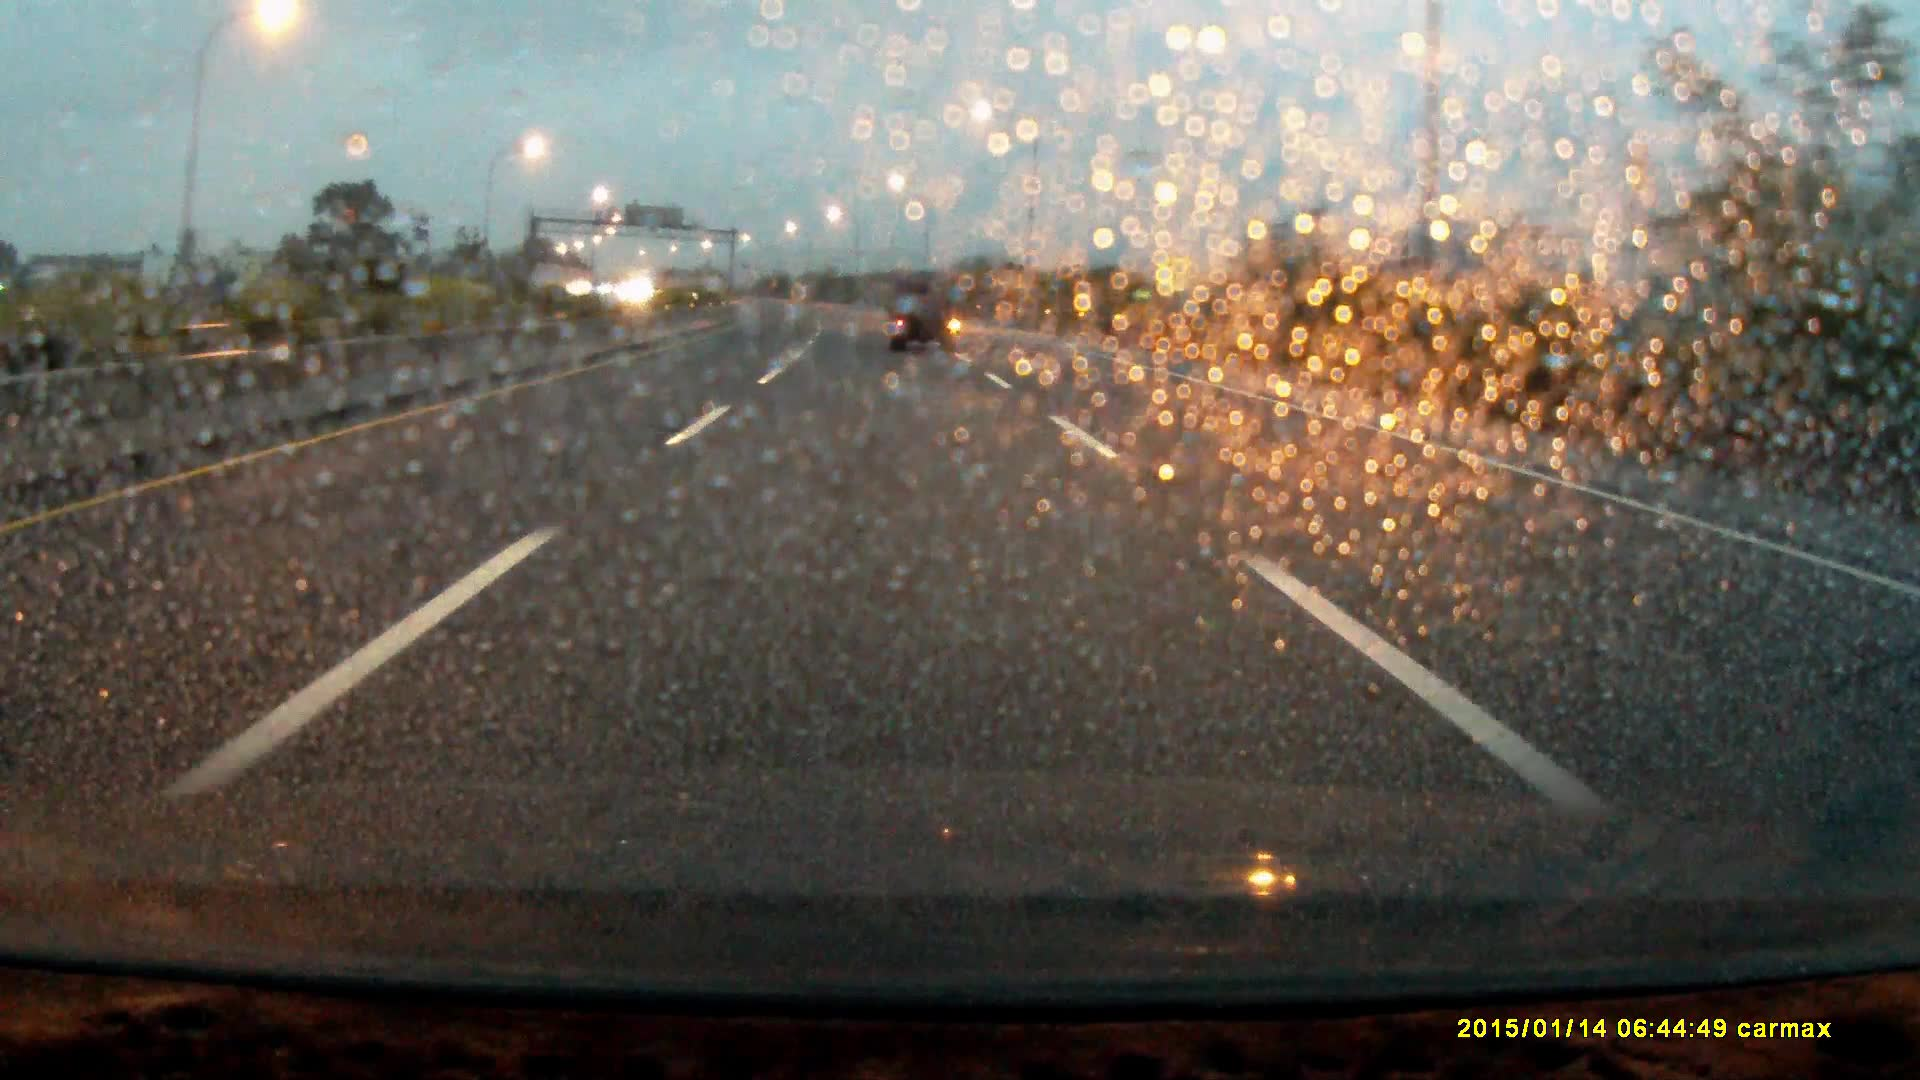vehicle: (890, 270, 963, 353)
